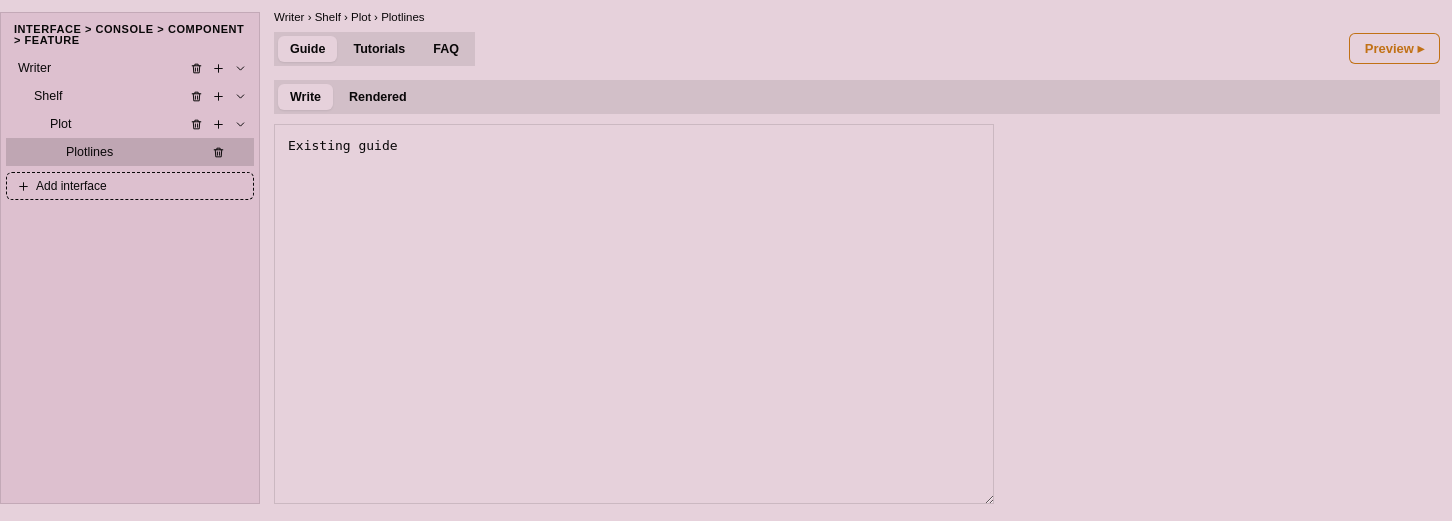
Test: ArticleBuilder › preview as Help renders the guide and offers a feedback form that really submits
The width and height of the screenshot is (1452, 521).
Expected: the text box showing "Existing guide" is shown, [274, 124, 994, 504]
Click the button "Preview ▸" at (1394, 48), box [1349, 33, 1440, 64]
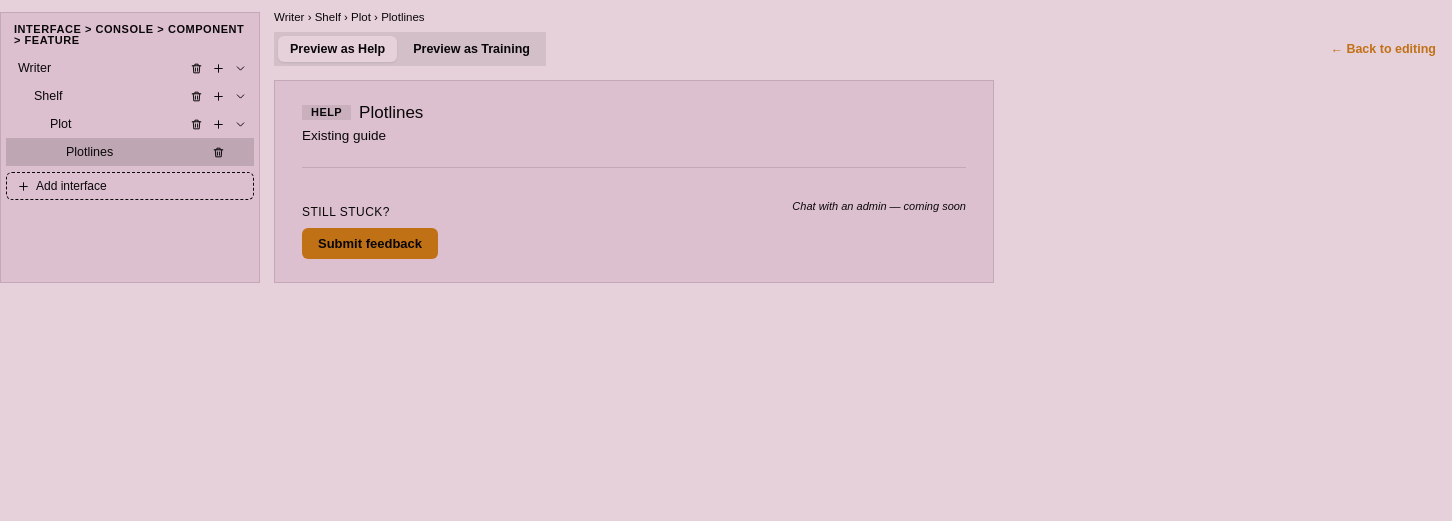
Result: the text "Existing guide" is shown at [302, 128, 386, 142]
Result: the text "Chat with an admin — coming soon" is shown at [792, 201, 966, 212]
Click the button "Submit feedback" at (370, 243), box [302, 228, 438, 259]
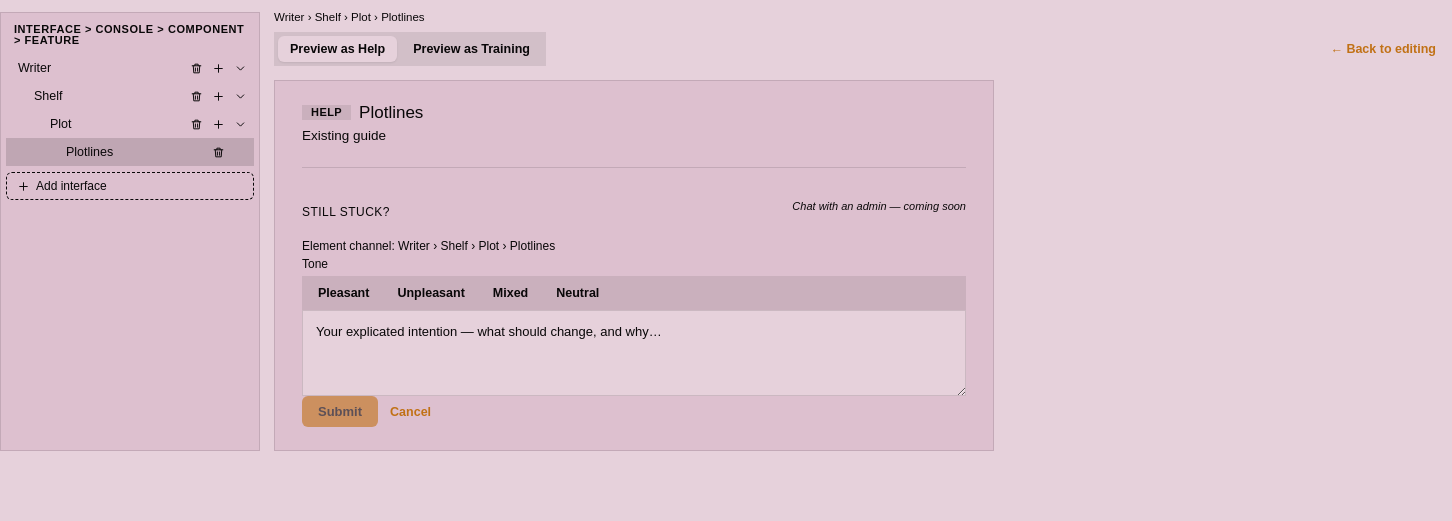
Click the button "Unpleasant" at (431, 293), box [385, 280, 477, 306]
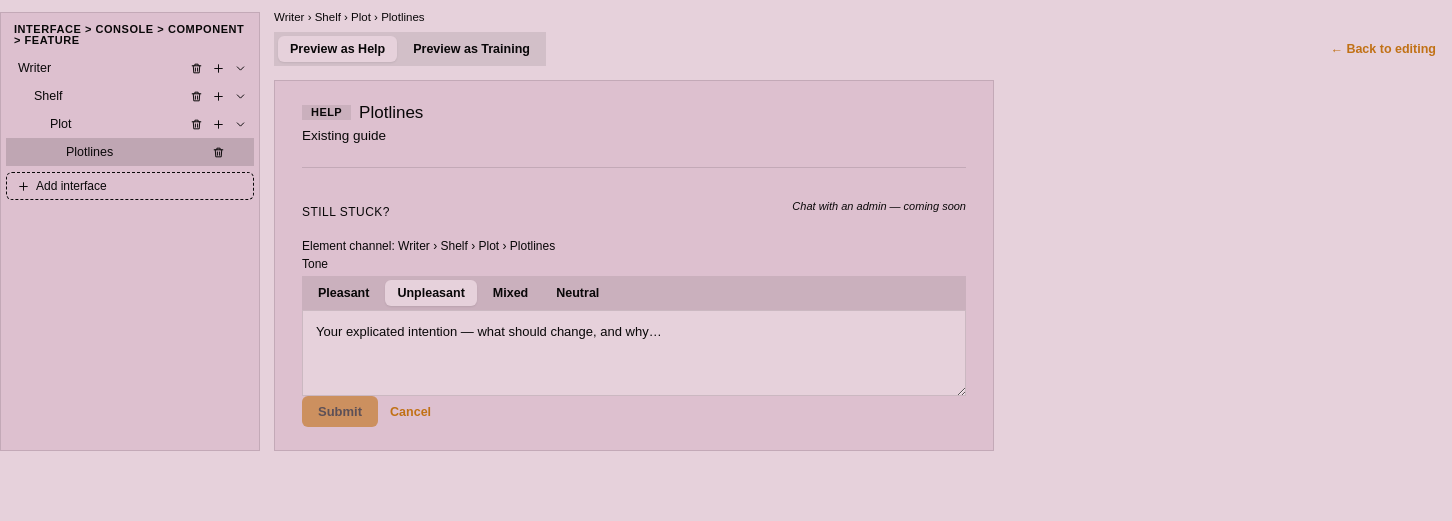
Type "Please add a warning." into the text box with placeholder "Your explicated intention — what should change, and why…" at (634, 353), box [302, 310, 966, 396]
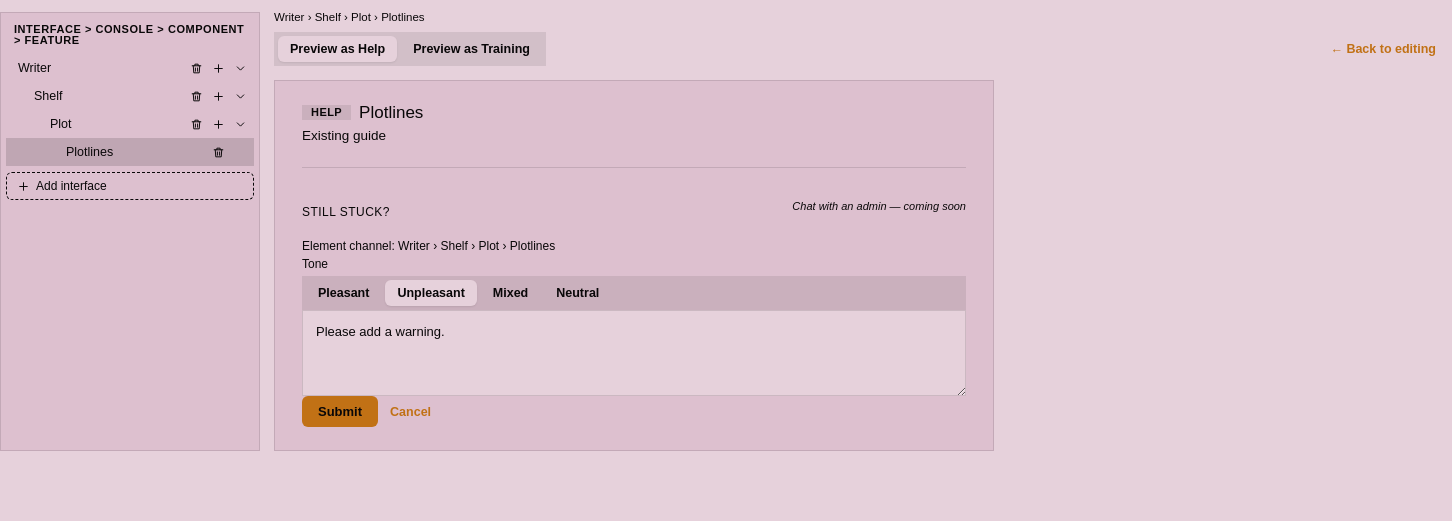
Click the button "Submit" at (340, 412), box [302, 396, 378, 427]
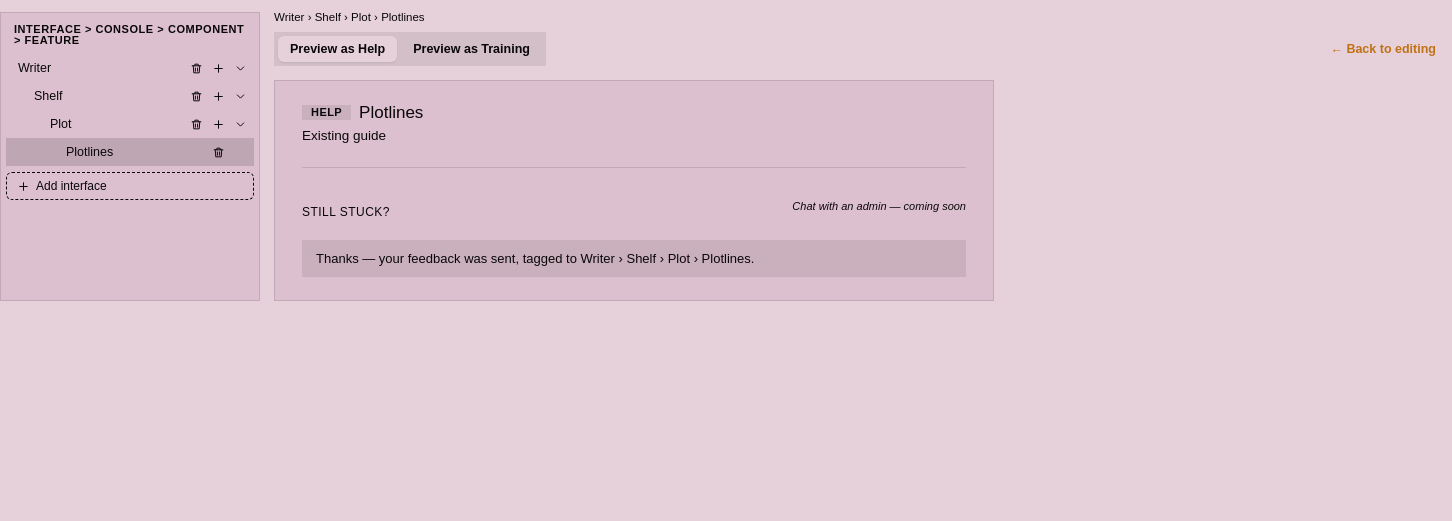
Result: the text "your feedback was sent" is shown at [316, 251, 580, 266]
